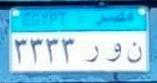3: (60, 37, 77, 63), (13, 37, 28, 64), (45, 38, 58, 63), (31, 38, 44, 63)
noon: (126, 41, 143, 64)
raa: (84, 42, 102, 63)
waw: (106, 42, 123, 63)
